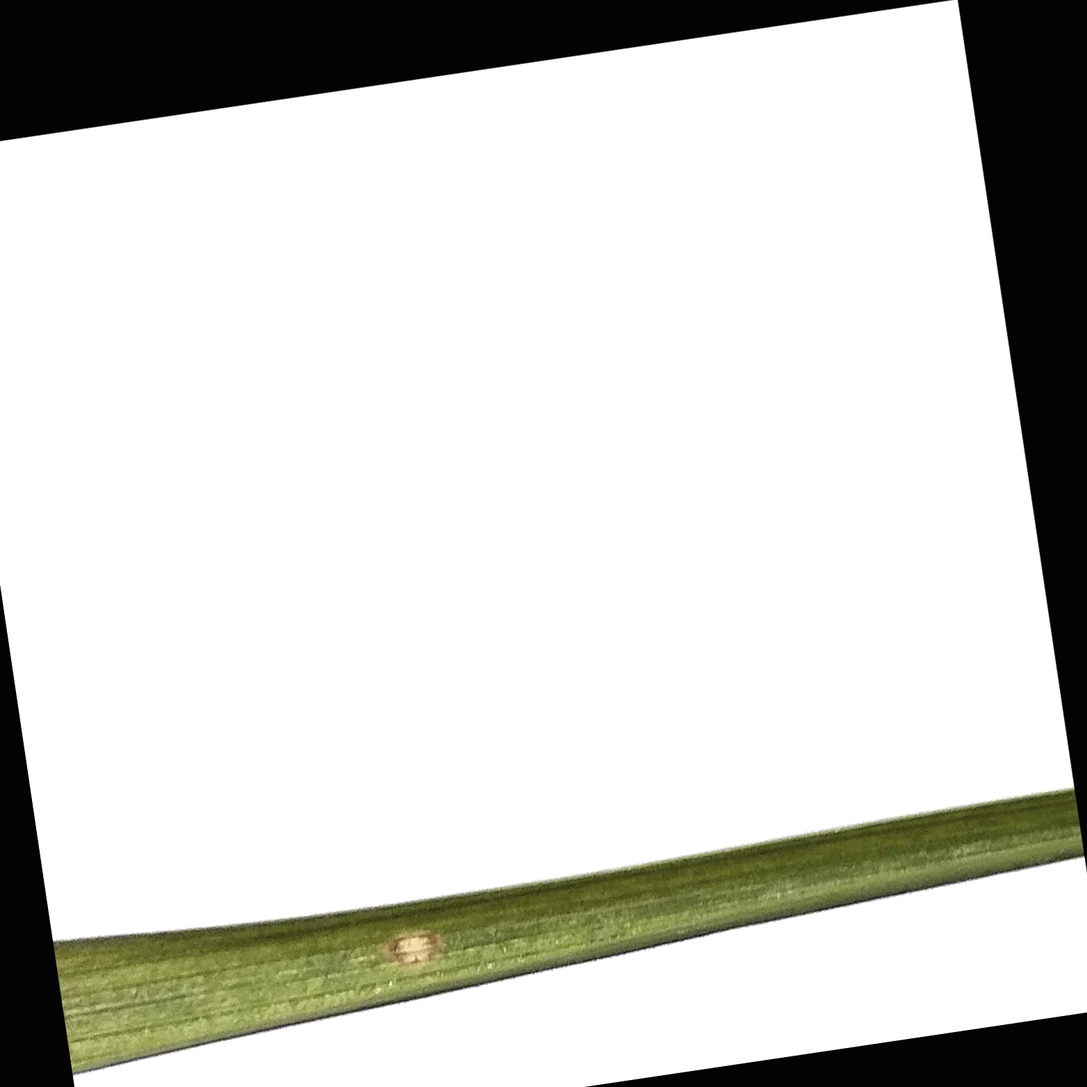Brown_Spot: (378, 926, 449, 973)
